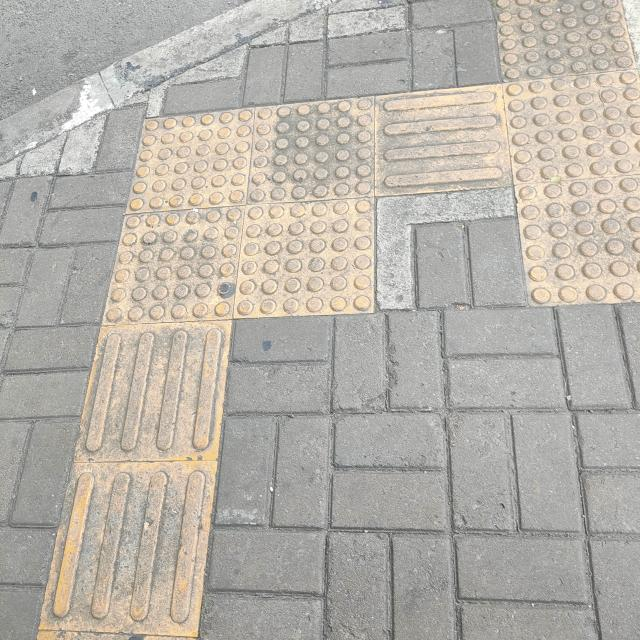kanan: (42, 58, 502, 440)
